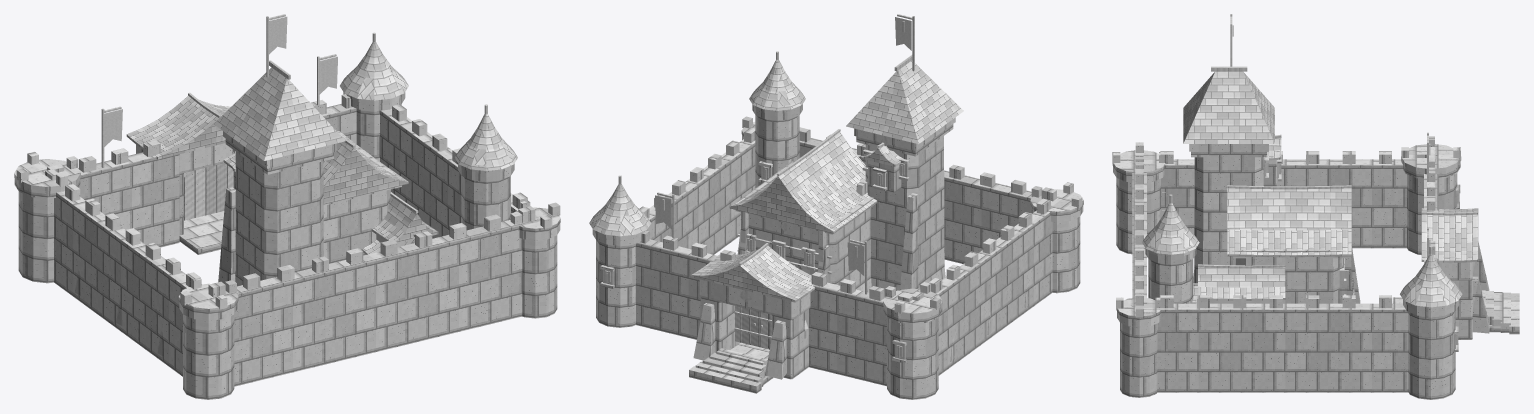
Rendered from AshenBastion_5.obj.
The picture shows the model from 3 angles, left to right: view 1: azimuth 30°, elevation 25°; view 2: azimuth 150°, elevation 25°; view 3: azimuth 270°, elevation 25°; orthographic projection. The views are drawn at different scales.
Parts seen in each view (by area): view 1: AshenBastion_5; view 2: AshenBastion_5; view 3: AshenBastion_5.
Boxes of the visible parts, left/top/right/bottom form: AshenBastion_5: left=14, top=14, right=560, bottom=399; AshenBastion_5: left=589, top=14, right=1083, bottom=399; AshenBastion_5: left=1112, top=14, right=1519, bottom=399.
Bounding box in the file's own units: 19.36 × 14.8 × 19.56.
12 materials, 12 textured.
